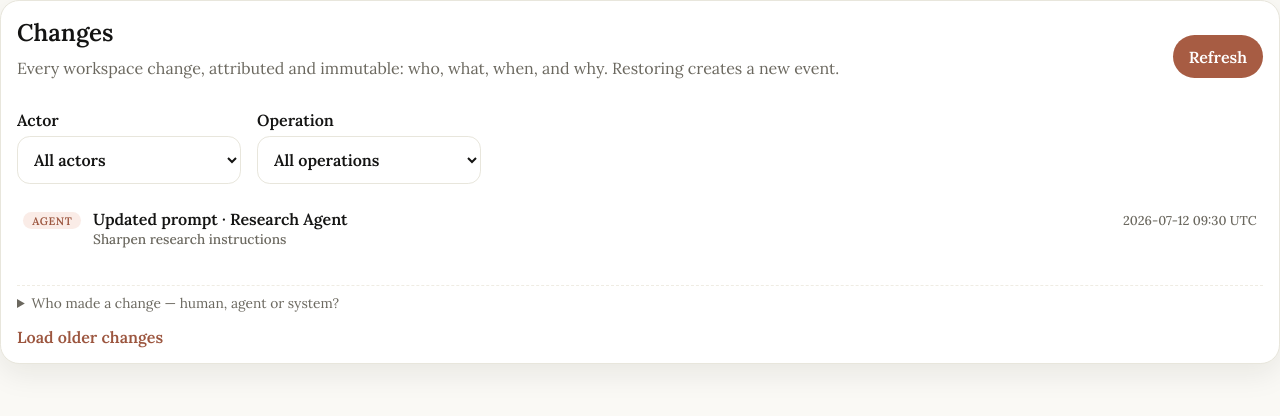
ChangesPage › pages older history via the cursor
Step 1. Click the button "Load older changes" → (90, 337), box [17,326,1263,346]
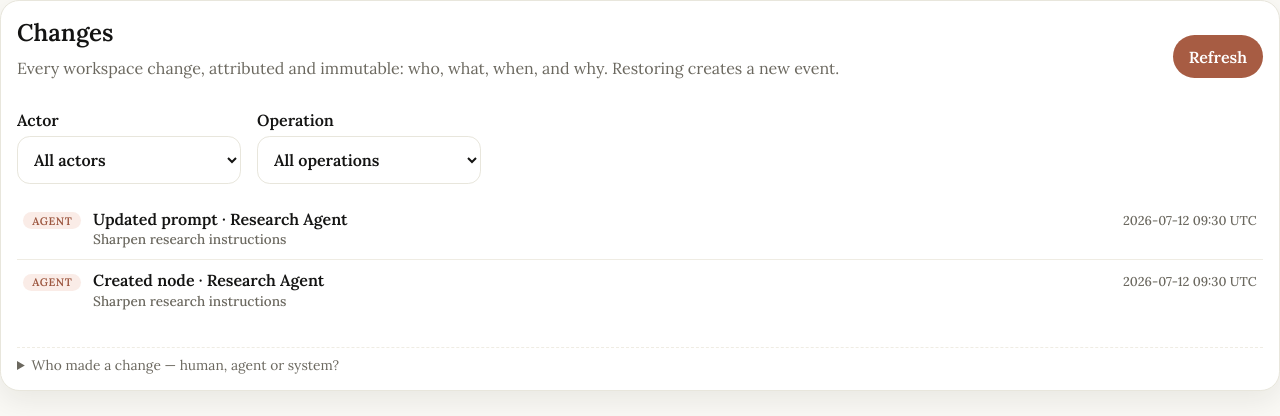
Expected: the text "Updated prompt · Research Agent" is shown, [93,209,348,229]
Expected: the text "Created node · Research Agent" is shown, [93,270,324,290]
